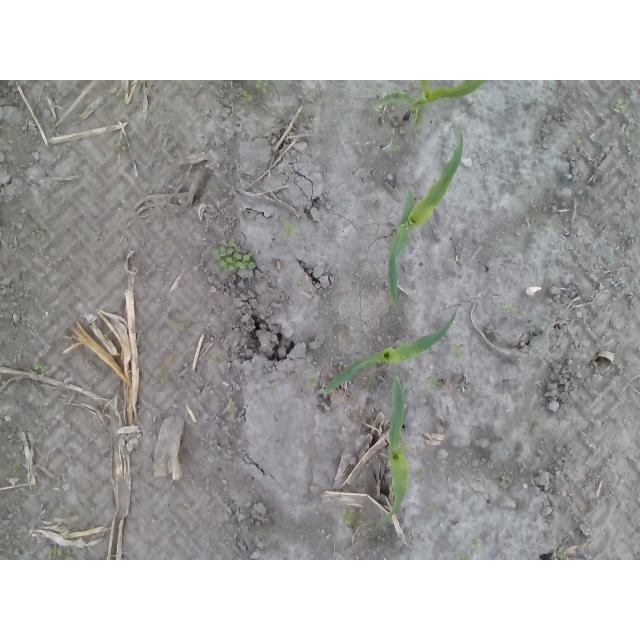Maize: (386, 132, 464, 304), (321, 311, 456, 398), (372, 80, 486, 132), (376, 376, 411, 530)
Weeds: (212, 238, 257, 274), (49, 545, 77, 560), (469, 531, 484, 553), (280, 219, 298, 237), (425, 373, 441, 391), (338, 507, 354, 525), (171, 314, 185, 331), (552, 545, 567, 560), (228, 400, 239, 420), (9, 461, 24, 475), (454, 344, 467, 360), (208, 351, 221, 365), (614, 99, 626, 114), (33, 363, 50, 373), (256, 80, 269, 93), (306, 375, 319, 388), (154, 371, 169, 382), (33, 224, 44, 238), (501, 304, 517, 313), (625, 128, 637, 140), (135, 333, 146, 346), (115, 140, 127, 151), (243, 90, 253, 102), (388, 144, 401, 152), (113, 87, 124, 95), (501, 476, 510, 484), (456, 554, 468, 560), (426, 502, 435, 510), (417, 470, 424, 479), (0, 554, 8, 560), (577, 137, 584, 143), (270, 384, 276, 389)
